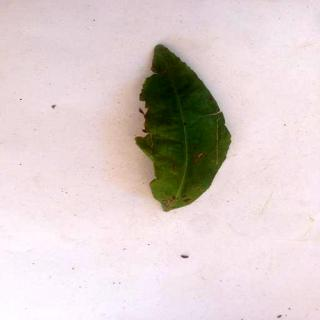Brown Blight: (135, 46, 233, 213)
